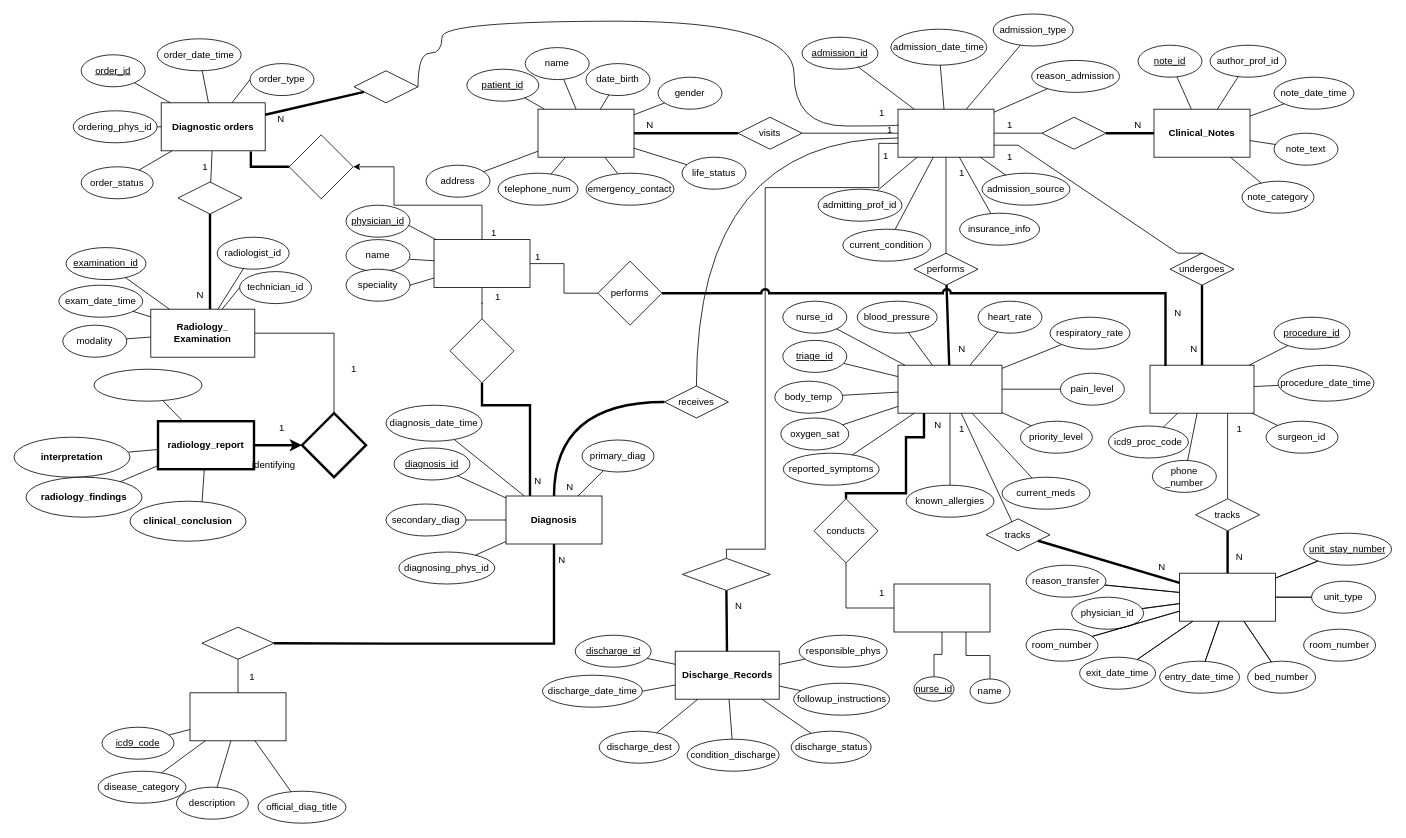
Image size: 1406x838. Some labels were removed from this diagram. The shapes that lost their labels are listed below. From the top down, each one's centre as x and y in pixels, then its label:
the point at 385,86: requests
the point at 585,132: Patient
the point at 945,132: Admission
the point at 1073,132: logs
the point at 320,166: places
the point at 209,197: fulfills
the point at 481,263: Physician
the point at 481,350: records
the point at 147,384: radiology_report_id
the point at 949,388: Triage-assessment
the point at 1201,388: Surgical_procedures
the point at 333,445: produces
the point at 726,574: concludes with
the point at 941,607: Nurse
the point at 1227,596: ICU_Stay
the point at 237,642: represents
the point at 237,716: ICD9_Dict
